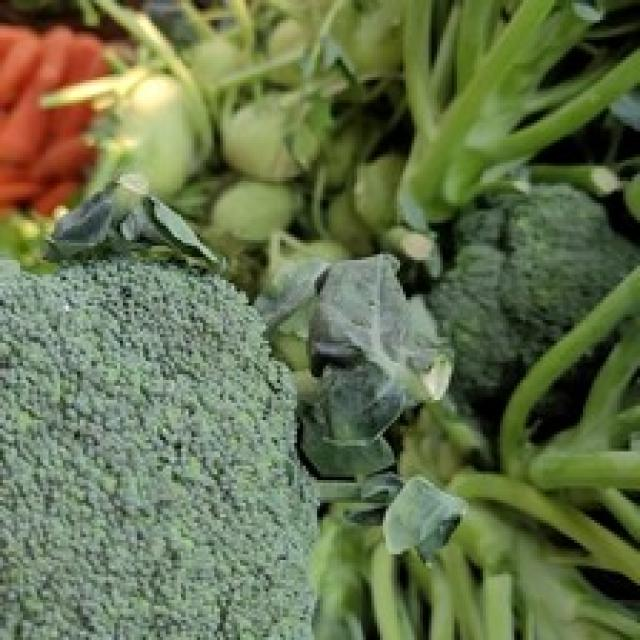Broccoli: (0, 256, 316, 639), (0, 259, 315, 639)
